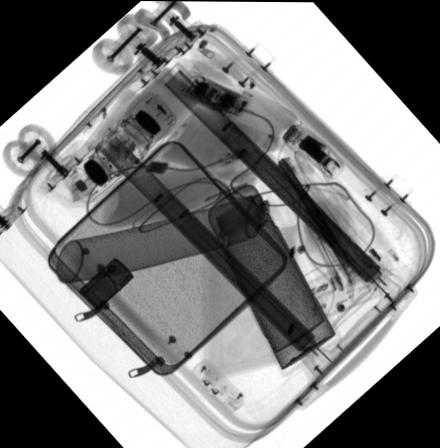Lighter: (78, 258, 133, 310)
Sprayer: (56, 190, 294, 283)
